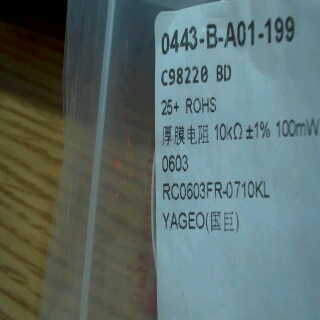10kR: (212, 116, 245, 148)
